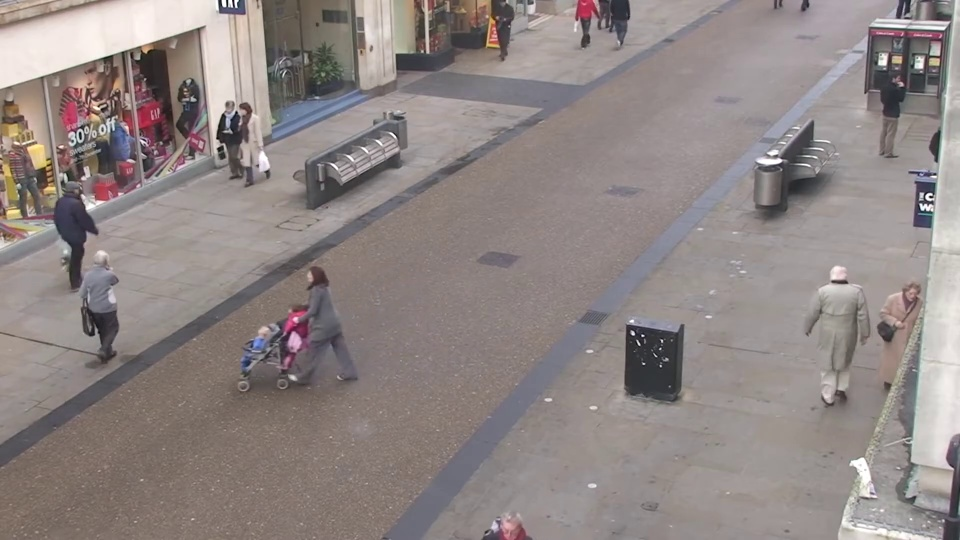pedestrian: (877, 278, 936, 419), (224, 316, 280, 461), (85, 241, 140, 367), (808, 254, 859, 387), (277, 261, 327, 394), (66, 173, 116, 282), (870, 68, 910, 154), (208, 100, 244, 190), (224, 101, 259, 190)
